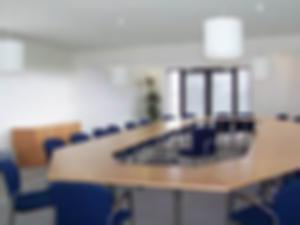Puerta: (183, 72, 235, 114)
